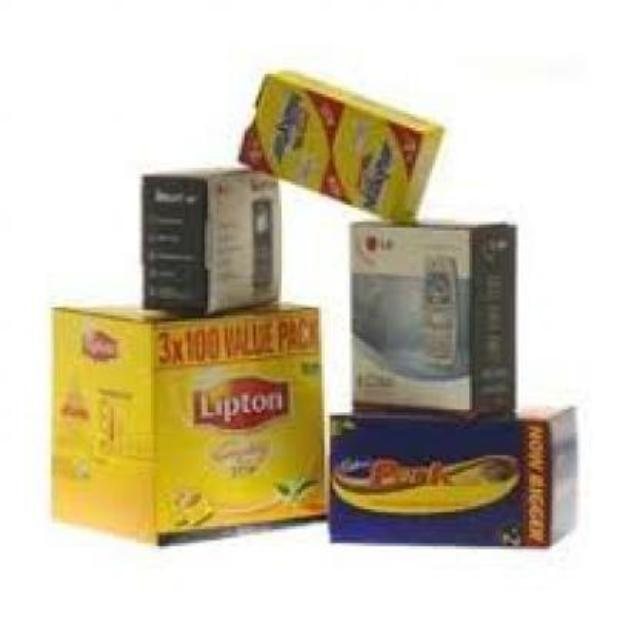cardboard_box: (48, 304, 348, 554), (326, 407, 596, 543), (341, 224, 531, 406), (236, 69, 448, 221), (132, 154, 282, 316)
